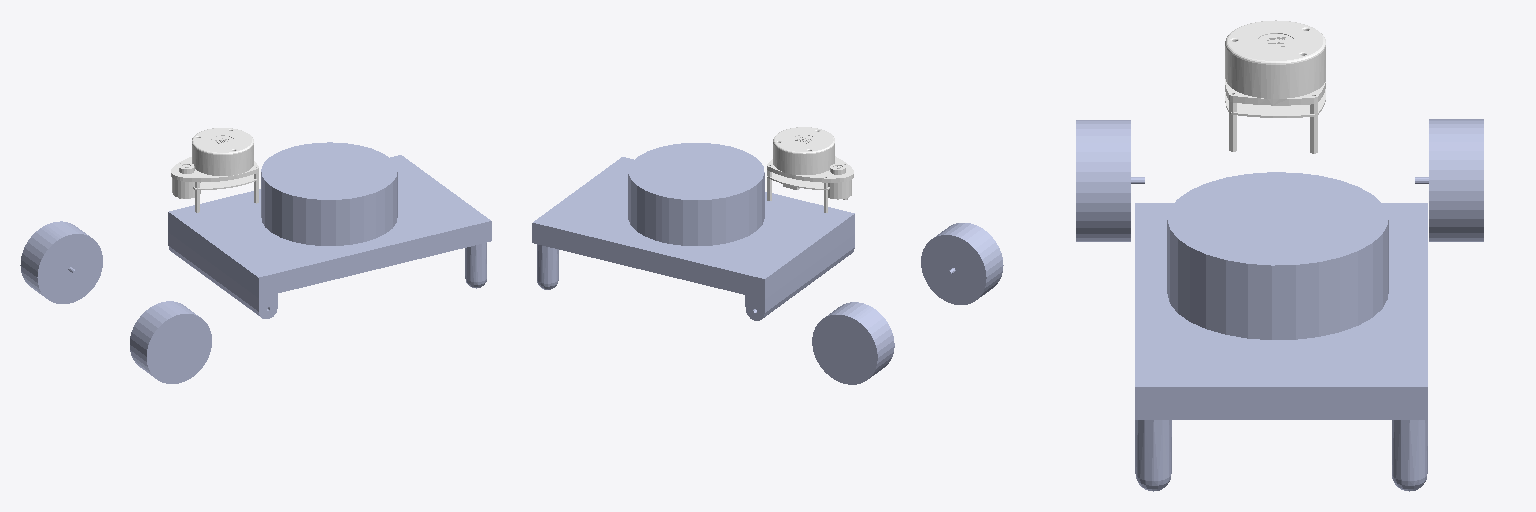
The robot description file, URDF, robot "diff_drive_bot_with_lidar":
<?xml version="1.0" encoding="utf-8"?>
<!-- This URDF was automatically created by SolidWorks to URDF Exporter! Originally created by [author] ([email redacted]) 
     Commit Version: 1.6.0-4-g7f85cfe  Build Version: 1.6.7995.38578
     For more information, please see http://wiki.ros.org/sw_urdf_exporter -->
<robot
  name="diff_drive_bot_with_lidar">
  <link
    name="base_link">
    <inertial>
      <origin
        xyz="-0.0053991 -0.0020273 0.00085493"
        rpy="0 0 0" />
      <mass
        value="2.7764" />
      <inertia
        ixx="0.0094878"
        ixy="6.6341E-06"
        ixz="-0.00024936"
        iyy="0.018479"
        iyz="7.2428E-05"
        izz="0.024302" />
    </inertial>
    <visual>
      <origin
        xyz="0 0 0"
        rpy="0 0 0" />
      <geometry>
        <mesh
          filename="package://diff_drive_bot_with_lidar/meshes/base_link.STL" />
      </geometry>
      <material
        name="">
        <color
          rgba="0.79216 0.81961 0.93333 1" />
      </material>
    </visual>
    <collision>
      <origin
        xyz="0 0 0"
        rpy="0 0 0" />
      <geometry>
        <mesh
          filename="package://diff_drive_bot_with_lidar/meshes/base_link.STL" />
      </geometry>
    </collision>
  </link>
  <link
    name="left_link">
    <inertial>
      <origin
        xyz="0 -0.019022 0"
        rpy="0 0 0" />
      <mass
        value="0.21583" />
      <inertia
        ixx="0.00012343"
        ixy="7.8345E-22"
        ixz="2.7387E-21"
        iyy="0.00019474"
        iyz="-2.2027E-21"
        izz="0.00012343" />
    </inertial>
    <visual>
      <origin
        xyz="0 0 0"
        rpy="0 0 0" />
      <geometry>
        <mesh
          filename="package://diff_drive_bot_with_lidar/meshes/left_link.STL" />
      </geometry>
      <material
        name="">
        <color
          rgba="0.79216 0.81961 0.93333 1" />
      </material>
    </visual>
    <collision>
      <origin
        xyz="0 0 0"
        rpy="0 0 0" />
      <geometry>
        <mesh
          filename="package://diff_drive_bot_with_lidar/meshes/left_link.STL" />
      </geometry>
    </collision>
  </link>
  <joint
    name="left_wheel"
    type="continuous">
    <origin
      xyz="-0.13867 0.13992 -0.042"
      rpy="0 0 0" />
    <parent
      link="base_link" />
    <child
      link="left_link" />
    <axis
      xyz="0 -1 0" />
    <limit
      effort="1"
      velocity="10" />
  </joint>
  <link
    name="right_link">
    <inertial>
      <origin
        xyz="-2.77555756156289E-17 0.0190218340611352 6.24500451351651E-17"
        rpy="0 0 0" />
      <mass
        value="0.215827415301619" />
      <inertia
        ixx="0.000123433445533082"
        ixy="1.037934886211E-19"
        ixz="6.85672450250494E-21"
        iyy="0.00019474241985751"
        iyz="2.45101844653965E-21"
        izz="0.000123433445533082" />
    </inertial>
    <visual>
      <origin
        xyz="0 0 0"
        rpy="0 0 0" />
      <geometry>
        <mesh
          filename="package://diff_drive_bot_with_lidar/meshes/right_link.STL" />
      </geometry>
      <material
        name="">
        <color
          rgba="0.792156862745098 0.819607843137255 0.933333333333333 1" />
      </material>
    </visual>
    <collision>
      <origin
        xyz="0 0 0"
        rpy="0 0 0" />
      <geometry>
        <mesh
          filename="package://diff_drive_bot_with_lidar/meshes/right_link.STL" />
      </geometry>
    </collision>
  </link>
  <joint
    name="right_wheel"
    type="continuous">
    <origin
      xyz="-0.13867 -0.14208 -0.042"
      rpy="0 0 0" />
    <parent
      link="base_link" />
    <child
      link="right_link" />
    <axis
      xyz="0 -1 0" />
    <limit
      effort="1"
      velocity="10" />
  </joint>
  <link
    name="lidar_link">
    <inertial>
      <origin
        xyz="0 0 0"
        rpy="0 0 0" />
      <mass
        value="0" />
      <inertia
        ixx="0"
        ixy="0"
        ixz="0"
        iyy="0"
        iyz="0"
        izz="0" />
    </inertial>
    <visual>
      <origin
        xyz="0 0 0"
        rpy="0 0 0" />
      <geometry>
        <mesh
          filename="package://diff_drive_bot_with_lidar/meshes/lidar_link.STL" />
      </geometry>
      <material
        name="">
        <color
          rgba="1 1 1 1" />
      </material>
    </visual>
    <collision>
      <origin
        xyz="0 0 0"
        rpy="0 0 0" />
      <geometry>
        <mesh
          filename="package://diff_drive_bot_with_lidar/meshes/lidar_link.STL" />
      </geometry>
    </collision>
  </link>
  <joint
    name="lidar_joint"
    type="fixed">
    <origin
      xyz="-0.0028128 -0.004107 0.1281"
      rpy="0 0 -0.053034" />
    <parent
      link="base_link" />
    <child
      link="lidar_link" />
    <axis
      xyz="0 0 0" />
  </joint>
</robot>

--- Facts derived from the render (not from the file) ---
Views: 3 orthographic renders of the robot side by side, from view 1: azimuth 30°, elevation 25°; view 2: azimuth 150°, elevation 25°; view 3: azimuth 270°, elevation 25°.
Model diff_drive_bot_with_lidar with 4 links and 3 joints (2 continuous, 1 fixed), rooted at base_link, posed all joints at 0.
Visible links, largest first — view 1: base_link, right_link, left_link, lidar_link; view 2: base_link, left_link, right_link, lidar_link; view 3: base_link, lidar_link, left_link, right_link.
Boxes of the visible links, left/top/right/bottom form: base_link: left=168, top=142, right=491, bottom=318; right_link: left=130, top=301, right=211, bottom=383; left_link: left=20, top=221, right=102, bottom=303; lidar_link: left=171, top=128, right=258, bottom=212; base_link: left=532, top=143, right=854, bottom=320; left_link: left=812, top=302, right=894, bottom=384; right_link: left=921, top=223, right=1003, bottom=304; lidar_link: left=767, top=127, right=853, bottom=212; base_link: left=1135, top=172, right=1427, bottom=491; lidar_link: left=1225, top=20, right=1325, bottom=153; left_link: left=1415, top=119, right=1483, bottom=241; right_link: left=1076, top=120, right=1144, bottom=241.
Size in the robot's own frame: 0.4695 by 0.282 by 0.2126 metres.
Meshes: 4 distinct files referenced, 4 mesh visuals loaded (4 binary STL).